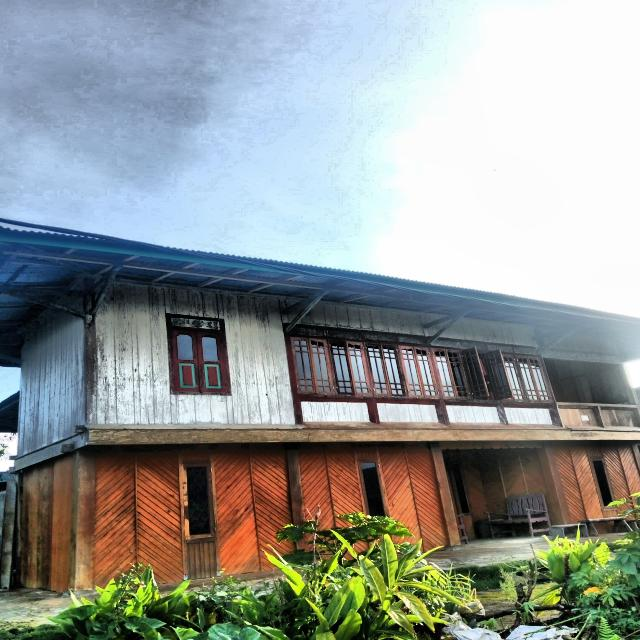ornamen: (301, 402, 370, 422), (377, 403, 439, 422), (166, 313, 225, 330), (446, 406, 500, 423), (504, 408, 552, 424), (559, 409, 597, 425), (601, 410, 639, 426), (289, 327, 324, 336), (328, 330, 361, 339), (397, 336, 428, 345), (364, 333, 394, 342), (431, 340, 459, 348), (459, 342, 486, 350), (487, 345, 514, 353), (514, 347, 537, 355)
wall: (95, 281, 295, 425), (93, 452, 183, 584), (212, 447, 295, 573), (16, 308, 84, 457), (19, 456, 72, 590), (300, 448, 363, 529)
window: (167, 326, 231, 396), (461, 346, 514, 401), (290, 336, 335, 395), (328, 340, 372, 396), (183, 463, 215, 540), (365, 342, 407, 397), (398, 345, 440, 398), (431, 347, 471, 399), (518, 355, 552, 402), (361, 462, 385, 516), (502, 354, 525, 402)
